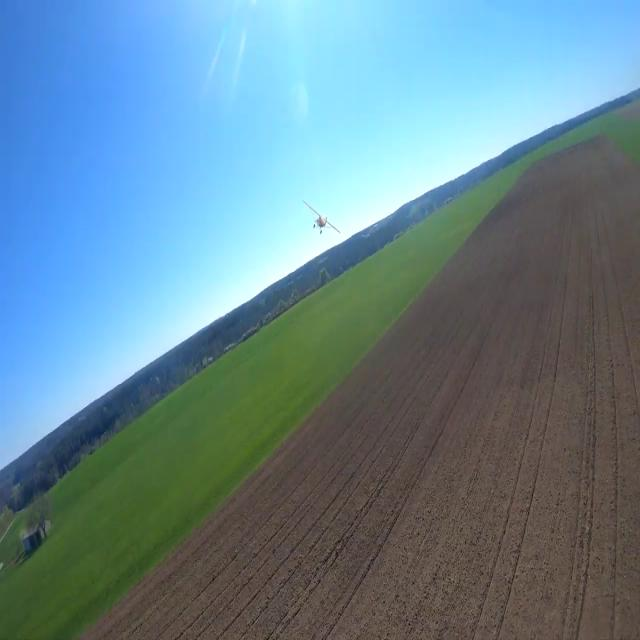iha: (302, 195, 342, 233)
